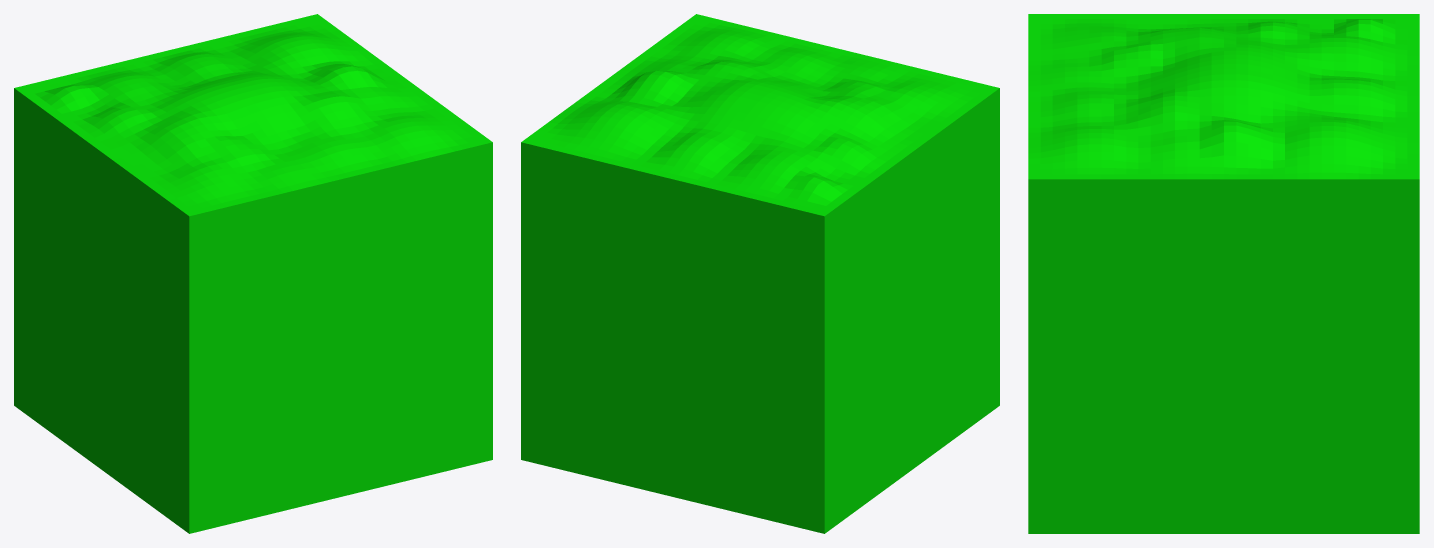
File: Grassblock.fbx
3 renders of one model, left to right at view 1: azimuth 30°, elevation 25°; view 2: azimuth 150°, elevation 25°; view 3: azimuth 270°, elevation 25°, orthographic. The views are drawn at different scales.
Visible parts, largest first — view 1: Cube; view 2: Cube; view 3: Cube.
Part boxes in pixels (x1=…): Cube: x1=14, y1=14, x2=492, y2=533; Cube: x1=521, y1=14, x2=999, y2=533; Cube: x1=1028, y1=14, x2=1419, y2=533.
Size of the model in its own units: 200 by 216 by 200.
